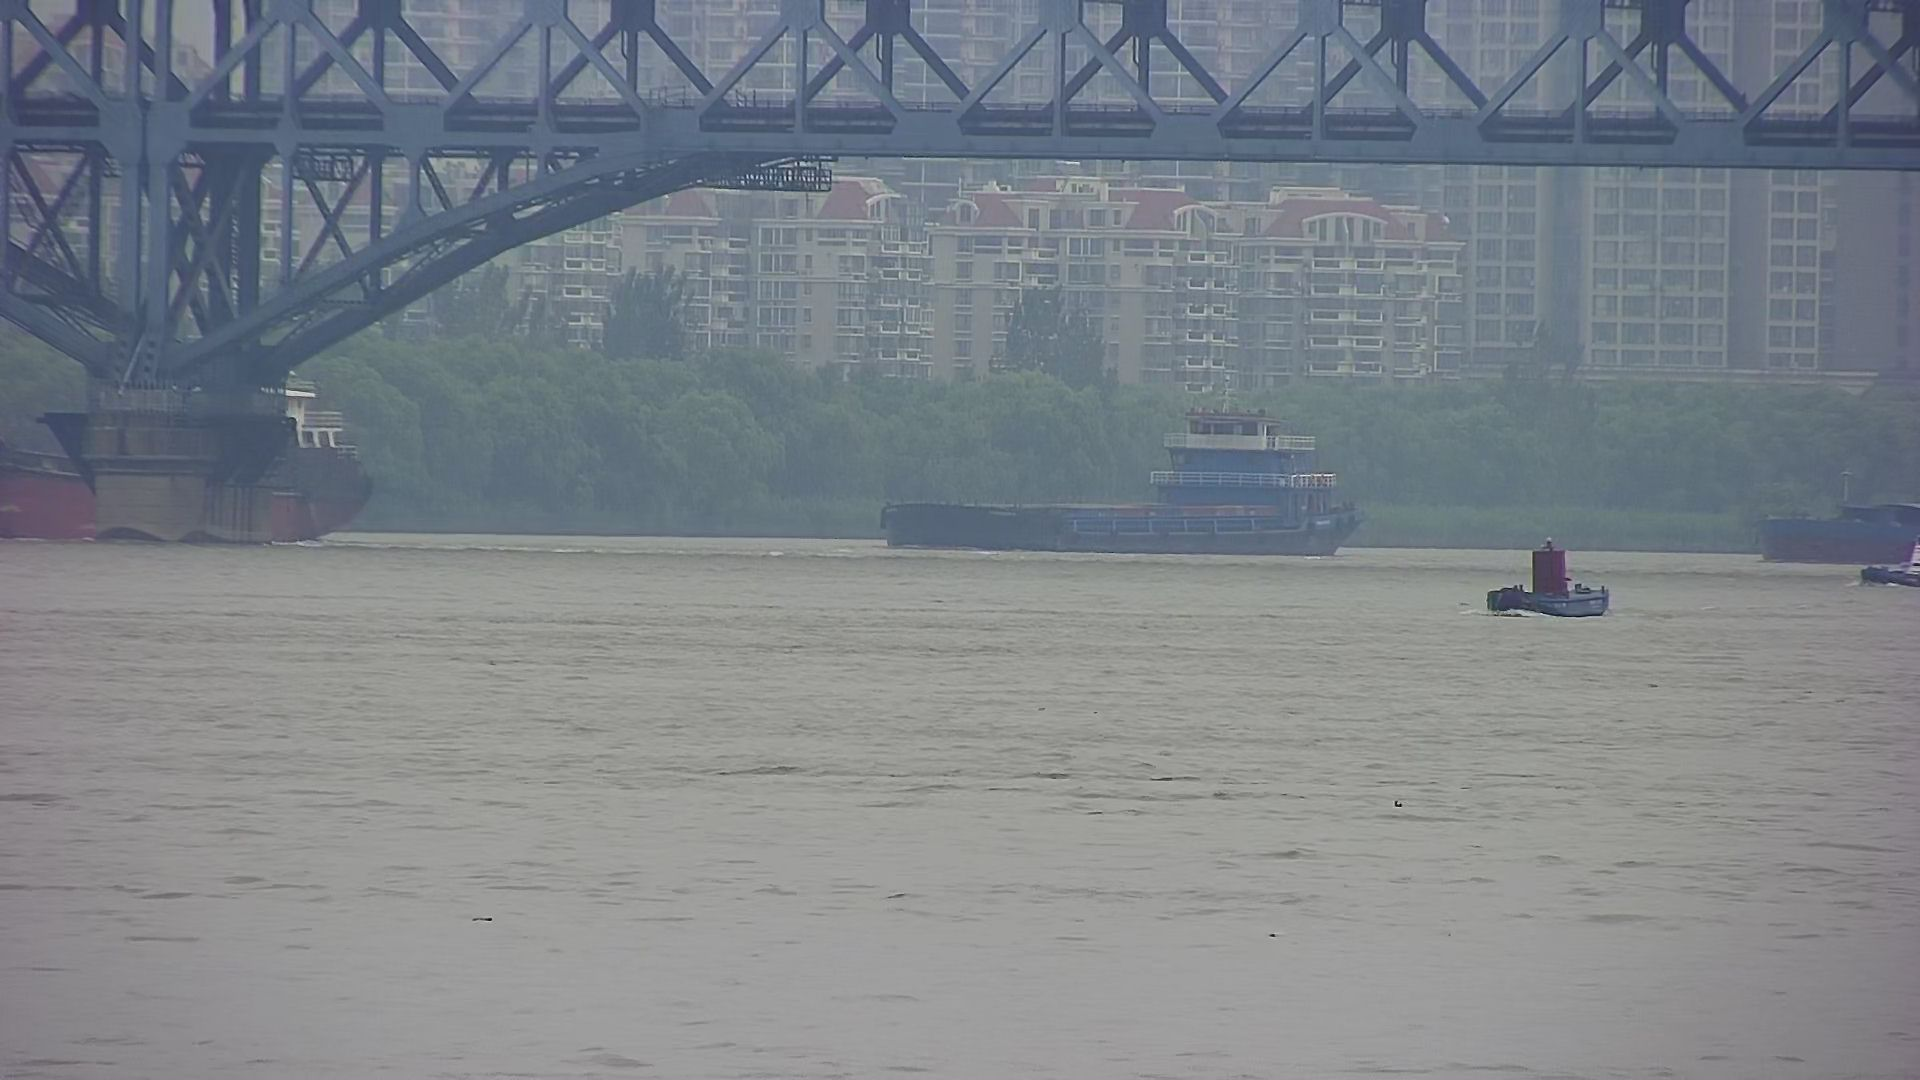boat: (1466, 522, 1625, 626)
bridge: (7, 1, 1920, 538)
ship: (862, 385, 1374, 566), (1, 348, 385, 545), (1745, 458, 1920, 570)
